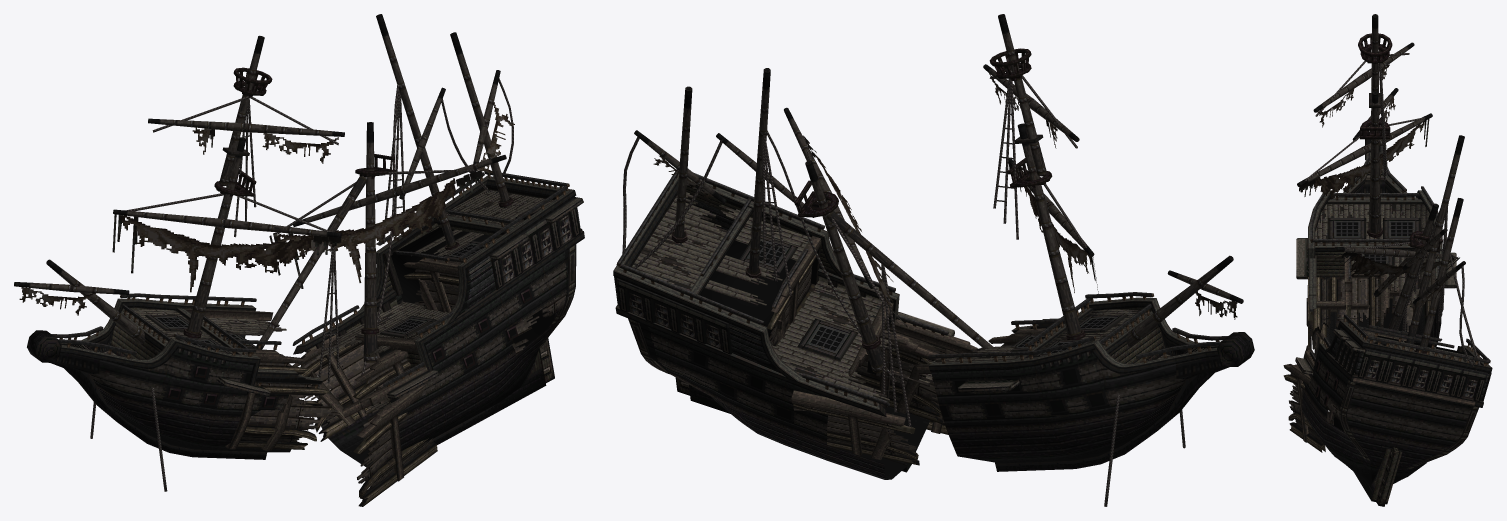
Rendered from EnvObjMD_Ship_Broken_A.FBX.
3 renders of one model, left to right at view 1: azimuth 30°, elevation 25°; view 2: azimuth 150°, elevation 25°; view 3: azimuth 270°, elevation 25°, orthographic. The views are drawn at different scales.
Parts seen in each view (by area): view 1: EnvObjMD_Ship_Broken_A; view 2: EnvObjMD_Ship_Broken_A; view 3: EnvObjMD_Ship_Broken_A.
Part boxes in pixels (x1,y1,x2,y2): EnvObjMD_Ship_Broken_A: (14,14,584,506); EnvObjMD_Ship_Broken_A: (613,14,1254,506); EnvObjMD_Ship_Broken_A: (1283,14,1492,506).
Size of the model in its own units: 2173 by 1732 by 823.
